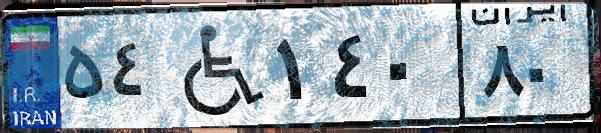0: (385, 28, 445, 110), (525, 38, 570, 115)
1: (270, 28, 330, 110)
4: (330, 28, 385, 110), (110, 28, 158, 98)
5: (57, 26, 110, 100)
8: (475, 38, 525, 113)
ژ (معلولین و جانبازان): (158, 12, 270, 120)
